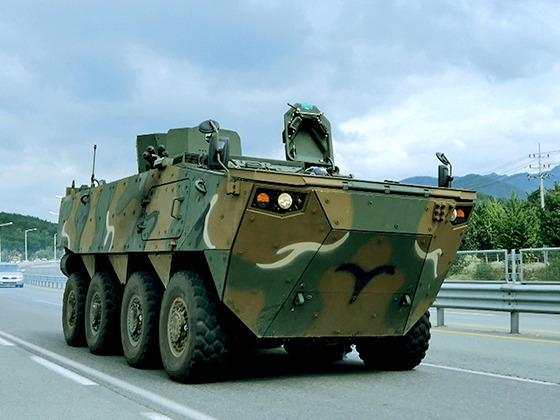MIL_IFV: (53, 98, 478, 379)
